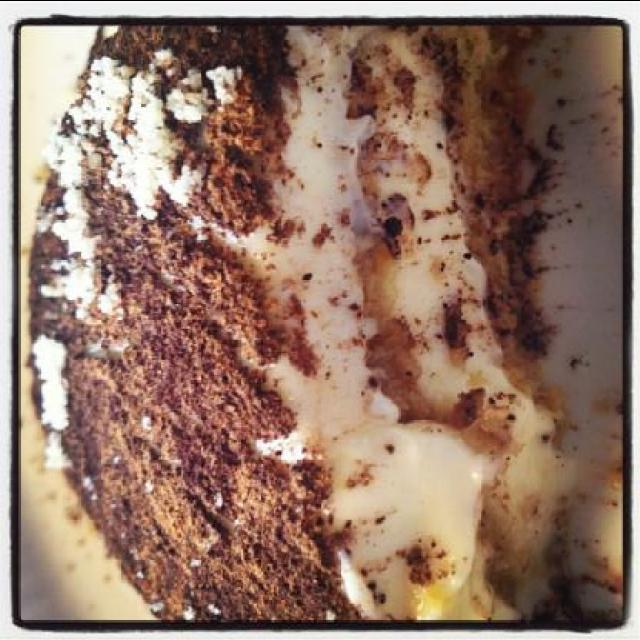Tiramisu: (31, 23, 524, 611)
